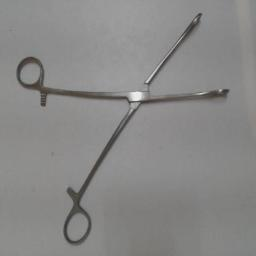Sponge Forceps: (14, 6, 232, 248)
